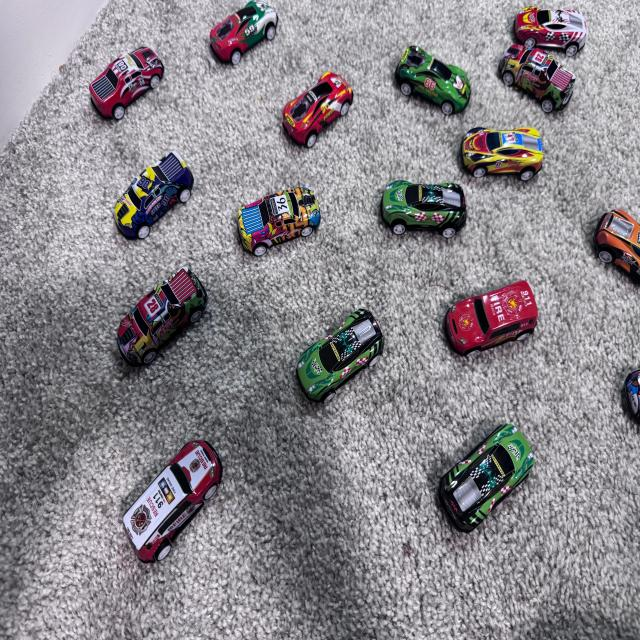car: (98, 431, 244, 590), (434, 411, 546, 561), (290, 292, 392, 454), (497, 0, 605, 130), (428, 269, 556, 376), (448, 106, 575, 200), (59, 29, 178, 118), (252, 68, 370, 153), (114, 276, 220, 370), (364, 150, 474, 240), (108, 148, 205, 230), (390, 42, 488, 118), (225, 191, 339, 249), (200, 4, 282, 54)
